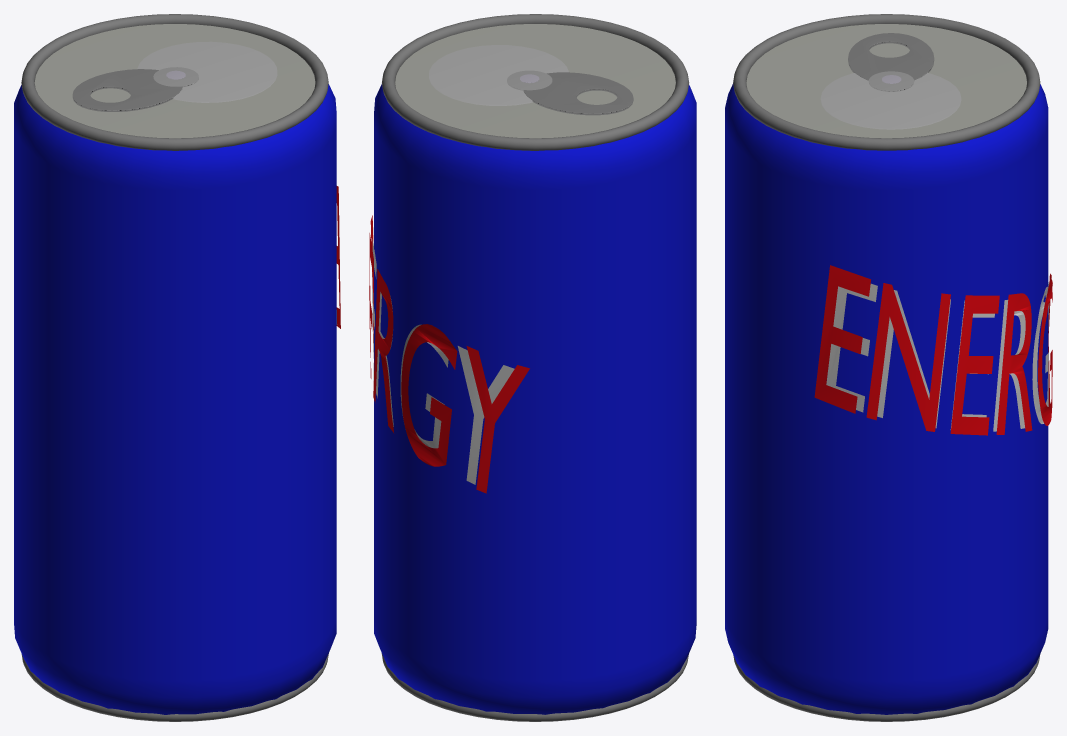
The model's file is energydrink.fbx.
3 views of the same model, side by side, from view 1: azimuth 30°, elevation 25°; view 2: azimuth 150°, elevation 25°; view 3: azimuth 270°, elevation 25° (orthographic).
Parts seen in each view (by area): view 1: Cylinder, Cylinder.001, Torus.001, Cylinder.003, Cylinder.002, Torus.000, Cylinder.004; view 2: Cylinder, Cylinder.001, Torus.001, Energy, Cylinder.003, Energy.001, Cylinder.002, Torus.000, Cylinder.004; view 3: Cylinder, Cylinder.001, Energy, Torus.001, Cylinder.003, Energy.001, Cylinder.002, Torus.000, Cylinder.004.
Boxes of the visible parts, x1,y1,x2,y2 form: Cylinder: (14, 84, 336, 714); Cylinder.001: (34, 24, 315, 138); Torus.001: (21, 14, 328, 150); Cylinder.003: (137, 41, 277, 102); Cylinder.002: (72, 69, 182, 111); Torus.000: (21, 653, 328, 721); Cylinder.004: (153, 67, 198, 87); Cylinder: (374, 84, 696, 714); Cylinder.001: (395, 24, 675, 138); Torus.001: (382, 14, 689, 150); Energy: (369, 215, 529, 493); Cylinder.003: (429, 45, 568, 105); Energy.001: (372, 227, 514, 484); Cylinder.002: (523, 72, 633, 115); Torus.000: (381, 653, 688, 721); Cylinder.004: (507, 70, 552, 90); Cylinder: (725, 83, 1048, 714); Cylinder.001: (746, 24, 1026, 138); Energy: (814, 265, 1052, 435); Torus.001: (733, 14, 1040, 150); Cylinder.003: (820, 73, 961, 129); Energy.001: (826, 282, 1049, 431); Cylinder.002: (848, 33, 934, 80); Torus.000: (733, 654, 1040, 721); Cylinder.004: (868, 71, 914, 91).
Bounding box in the file's own units: 77.5 × 152 × 77.54.
